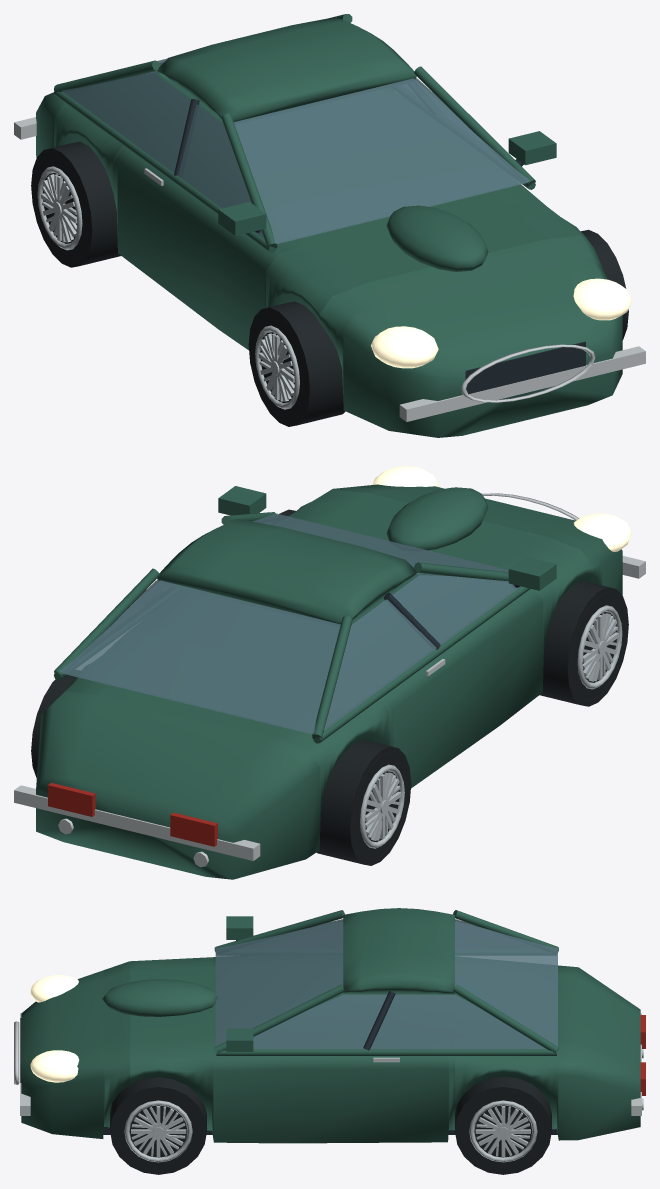
Rendered from sovereign.glb.
3 renders of one model, top to bottom at view 1: azimuth 30°, elevation 25°; view 2: azimuth 150°, elevation 25°; view 3: azimuth 270°, elevation 25°, orthographic. The views are drawn at different scales.
Parts seen in each view (by area): view 1: exterior-paint, windows, tire-front-left, tire-rear-left, chrome, headlights, black-trim, rim-rear-left, rim-front-left, tire-front-right; view 2: exterior-paint, windows, tire-rear-left, tire-front-left, chrome, rim-front-left, rim-rear-left, headlights, taillights, tire-rear-right; view 3: exterior-paint, windows, tire-rear-right, tire-front-right, rim-rear-right, rim-front-right, headlights, chrome, black-trim, taillights.
Boxes of the visible parts, x1,y1,x2,y2 form: exterior-paint: [36, 14, 622, 437]; windows: [61, 58, 529, 243]; tire-front-left: [248, 301, 345, 426]; tire-rear-left: [31, 141, 120, 267]; chrome: [14, 117, 645, 421]; headlights: [371, 278, 631, 368]; black-trim: [174, 99, 585, 394]; rim-rear-left: [37, 166, 82, 250]; rim-front-left: [255, 325, 299, 409]; tire-front-right: [581, 229, 628, 339]; exterior-paint: [36, 484, 622, 879]; windows: [60, 513, 520, 734]; tire-rear-left: [316, 740, 411, 865]; tire-front-left: [539, 581, 628, 706]; chrome: [14, 493, 645, 867]; rim-front-left: [577, 605, 622, 689]; rim-rear-left: [360, 764, 404, 848]; headlights: [372, 466, 631, 551]; taillights: [48, 782, 217, 846]; tire-rear-right: [31, 670, 78, 777]; exterior-paint: [21, 908, 640, 1143]; windows: [215, 919, 557, 1049]; tire-rear-right: [455, 1076, 551, 1174]; tire-front-right: [110, 1077, 206, 1174]; rim-rear-right: [469, 1100, 537, 1162]; rim-front-right: [124, 1100, 192, 1162]; headlights: [30, 975, 79, 1082]; chrome: [14, 1013, 643, 1115]; black-trim: [20, 940, 557, 1134]; taillights: [640, 1015, 645, 1095].
Size of the model in its own units: 1.8 by 1.15 by 3.78.
